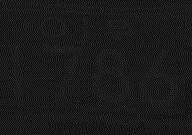0: (38, 15, 67, 38)
1: (1, 41, 39, 99), (71, 16, 97, 41)
6: (138, 49, 179, 109)
7: (43, 45, 85, 99)
8: (90, 46, 131, 104)
우: (105, 16, 129, 39)
